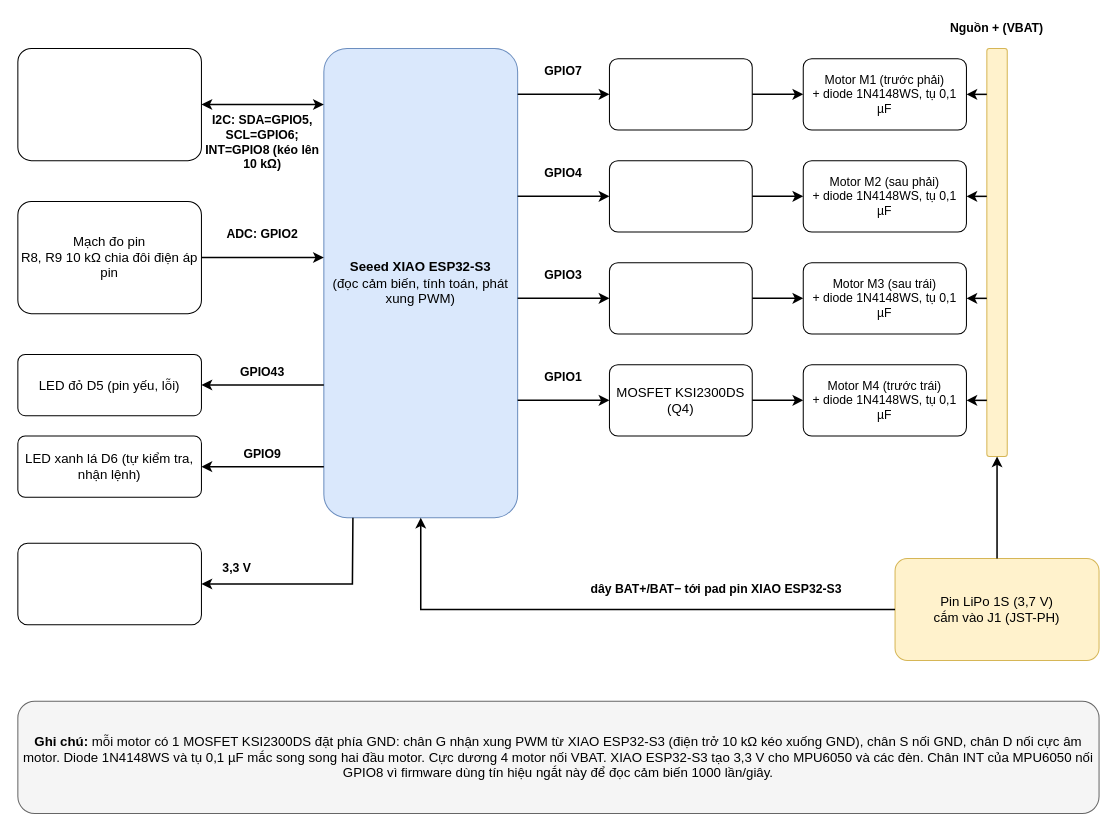
The diagram is 1117 pixels wide and 831 high, and some of its shapes have lost their labels. The centre of each missing label's shape, as x and y in pixels:
"4 đèn định hướng (2 trắng trước, 2 đỏ sau), sáng liên tục" goes at point 109,583.
"Cảm biến MPU6050 (U1, hàn trên bo) đo độ nghiêng và tốc độ quay" goes at point 109,104.
"MOSFET KSI2300DS (Q1)" goes at point 680,94.
"MOSFET KSI2300DS (Q2)" goes at point 680,196.
"MOSFET KSI2300DS (Q3)" goes at point 680,298.
